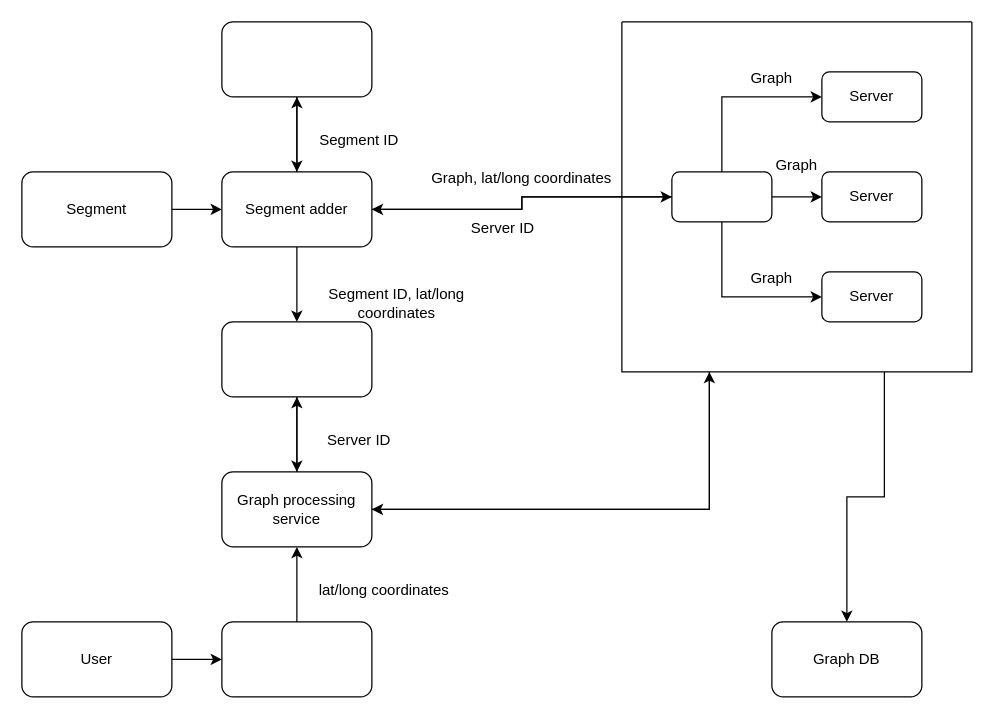
The diagram is 994 pixels wide and 719 high, and some of its shapes have lost their labels. Each missing label, with the centre of its shape:
"Distributed search" goes at [296,659].
"Key-value store" goes at [296,359].
"Segment ID generator" goes at [296,59].
"Server allocator" goes at [721,196].
